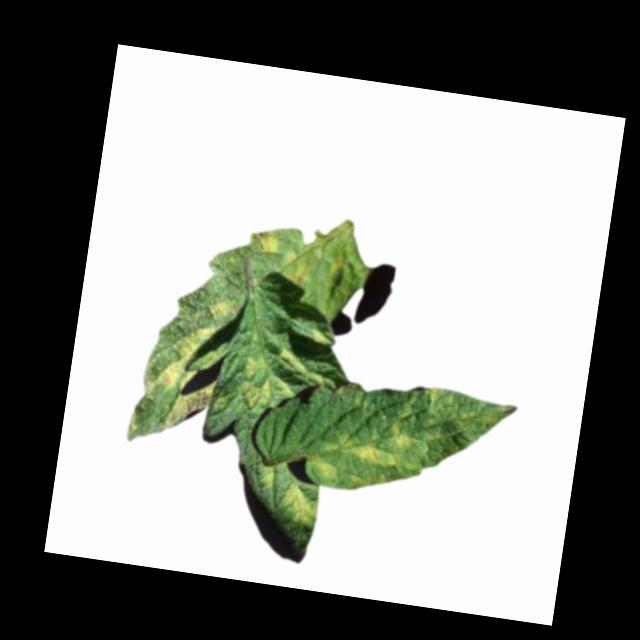Leaf_Mold: (232, 342, 332, 419), (341, 417, 420, 475), (163, 377, 215, 435), (277, 483, 323, 526), (175, 319, 219, 361), (154, 354, 190, 388), (307, 452, 342, 486), (247, 227, 284, 259), (201, 294, 238, 322)
